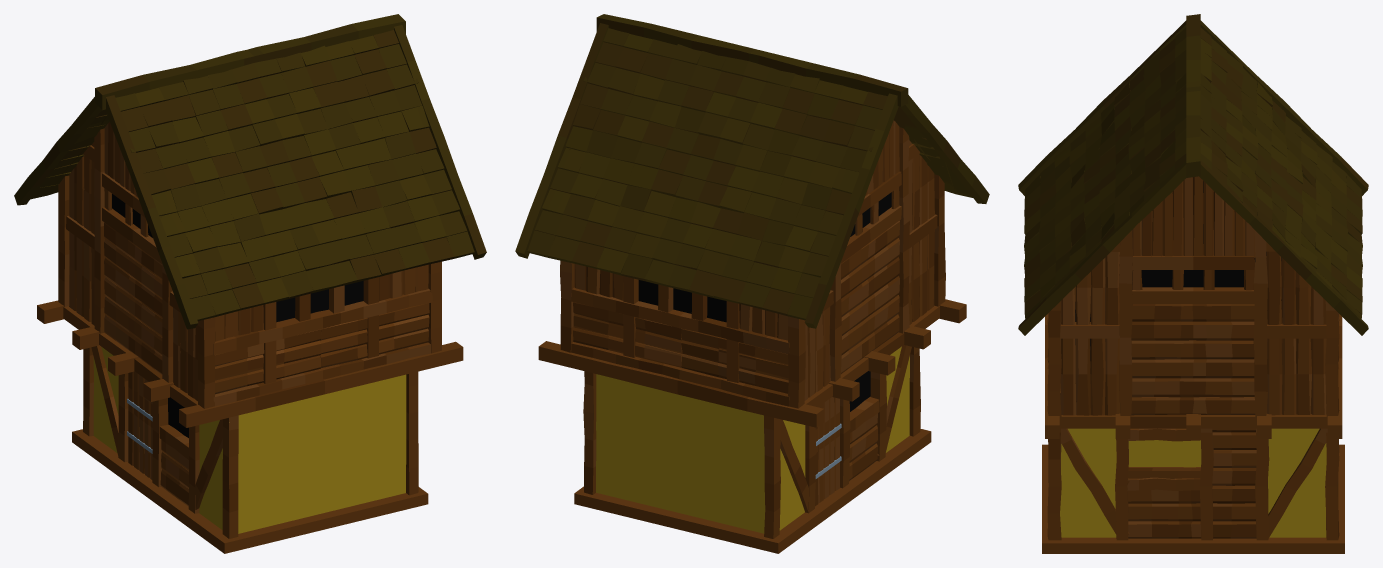
Rendered from castle_town_house_7.fbx.
The picture shows the model from 3 angles, left to right: view 1: azimuth 30°, elevation 25°; view 2: azimuth 150°, elevation 25°; view 3: azimuth 270°, elevation 25°; orthographic projection.
Visible parts, largest first — view 1: house 7; view 2: house 7; view 3: house 7.
Part boxes in pixels (bbox=[...]): house 7: bbox=[14, 14, 486, 553]; house 7: bbox=[515, 14, 989, 553]; house 7: bbox=[1018, 14, 1368, 553].
Bounding box in the file's own units: 4834 × 6370 × 4803.
